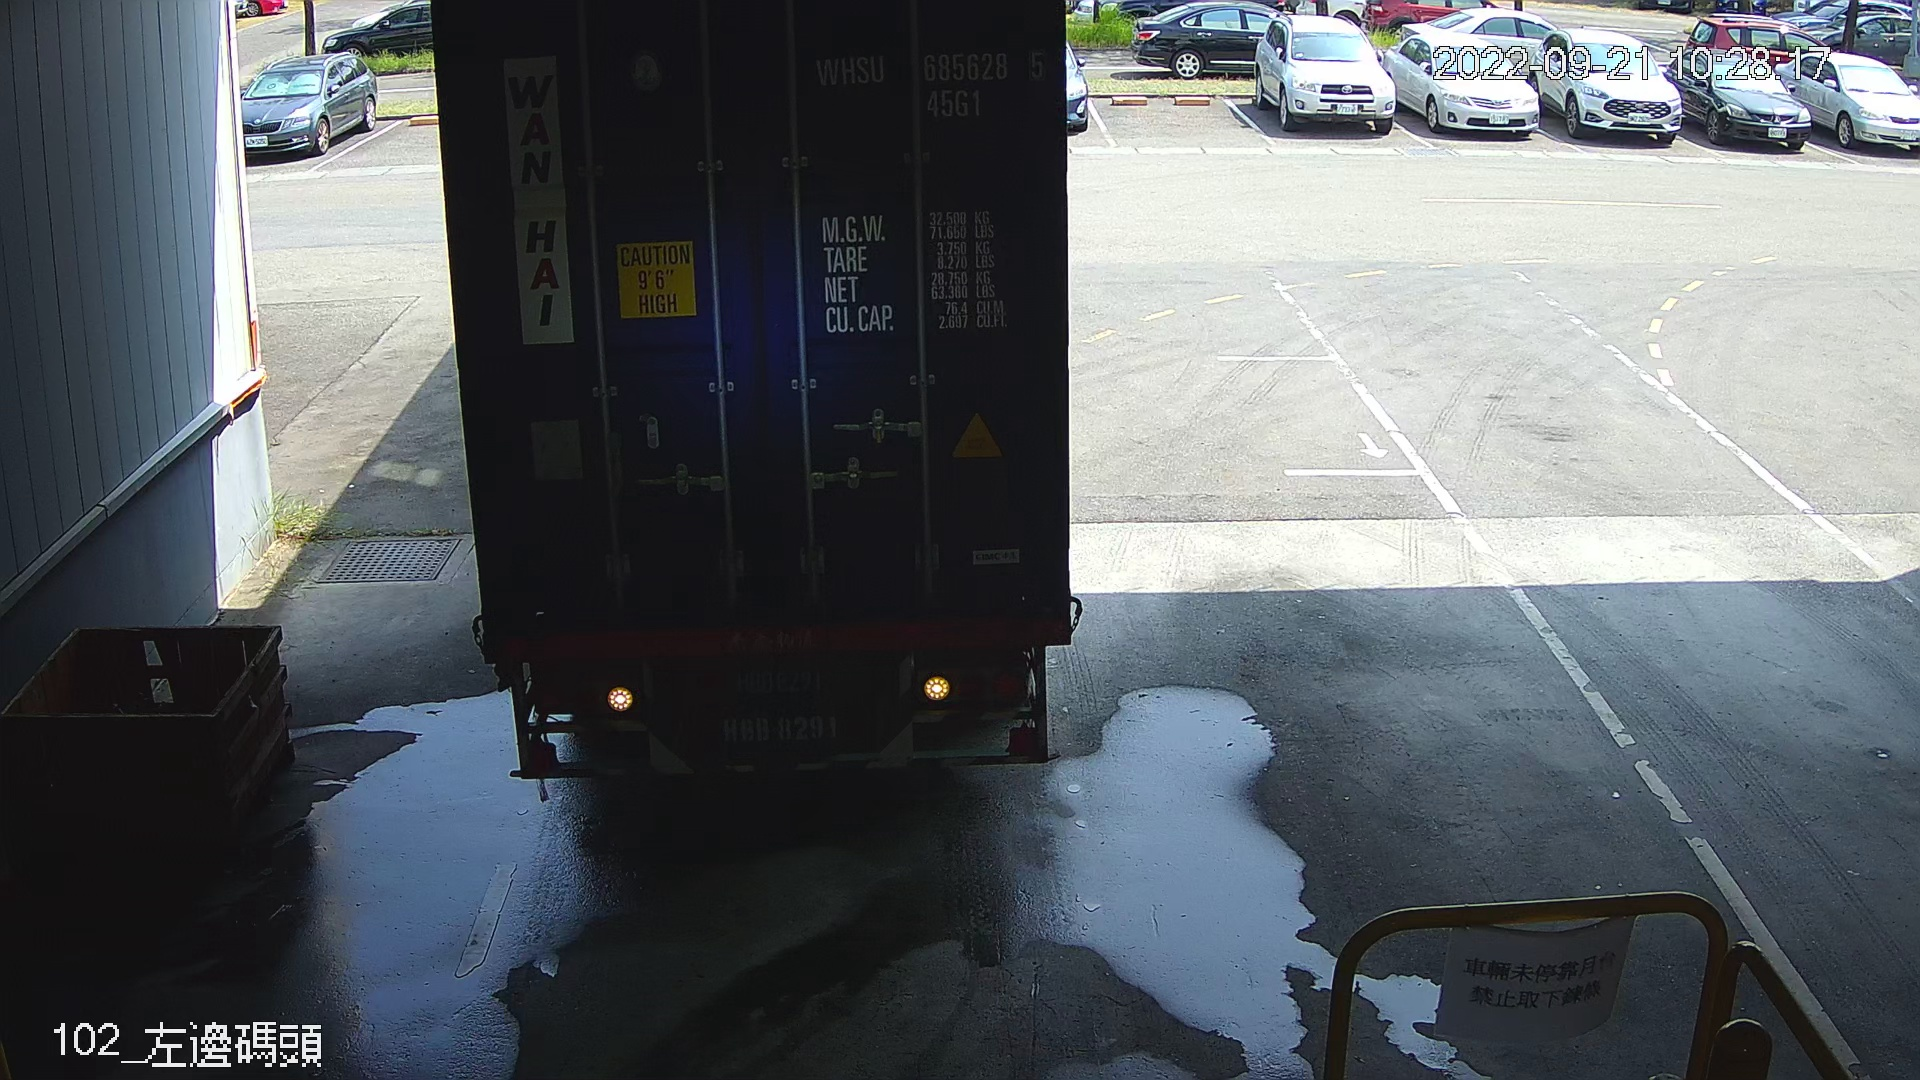container: (808, 42, 1051, 129)
